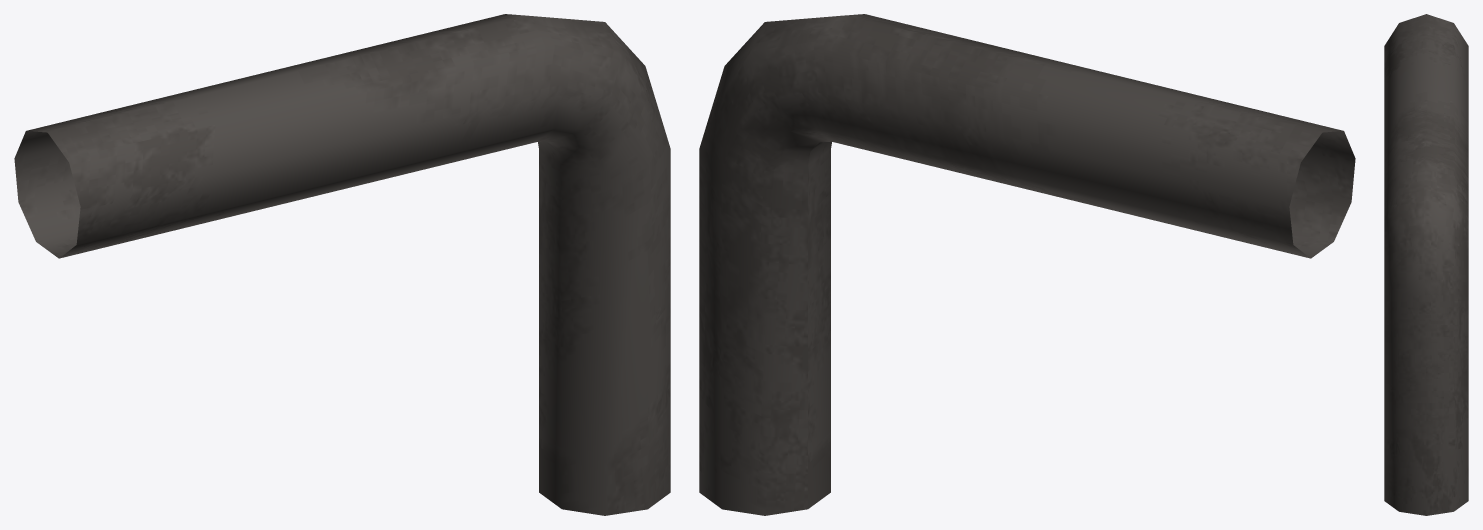
3 views of the same model, side by side, from view 1: azimuth 30°, elevation 25°; view 2: azimuth 150°, elevation 25°; view 3: azimuth 270°, elevation 25° (orthographic). The views are drawn at different scales.
Parts seen in each view (by area): view 1: Object061; view 2: Object061; view 3: Object061.
Part boxes in pixels (left/top/right/bottom): Object061: left=14, top=14, right=670, bottom=515; Object061: left=699, top=14, right=1355, bottom=515; Object061: left=1384, top=14, right=1468, bottom=515.
Size of the model in its own units: 35.74 by 27.27 by 6.66.
